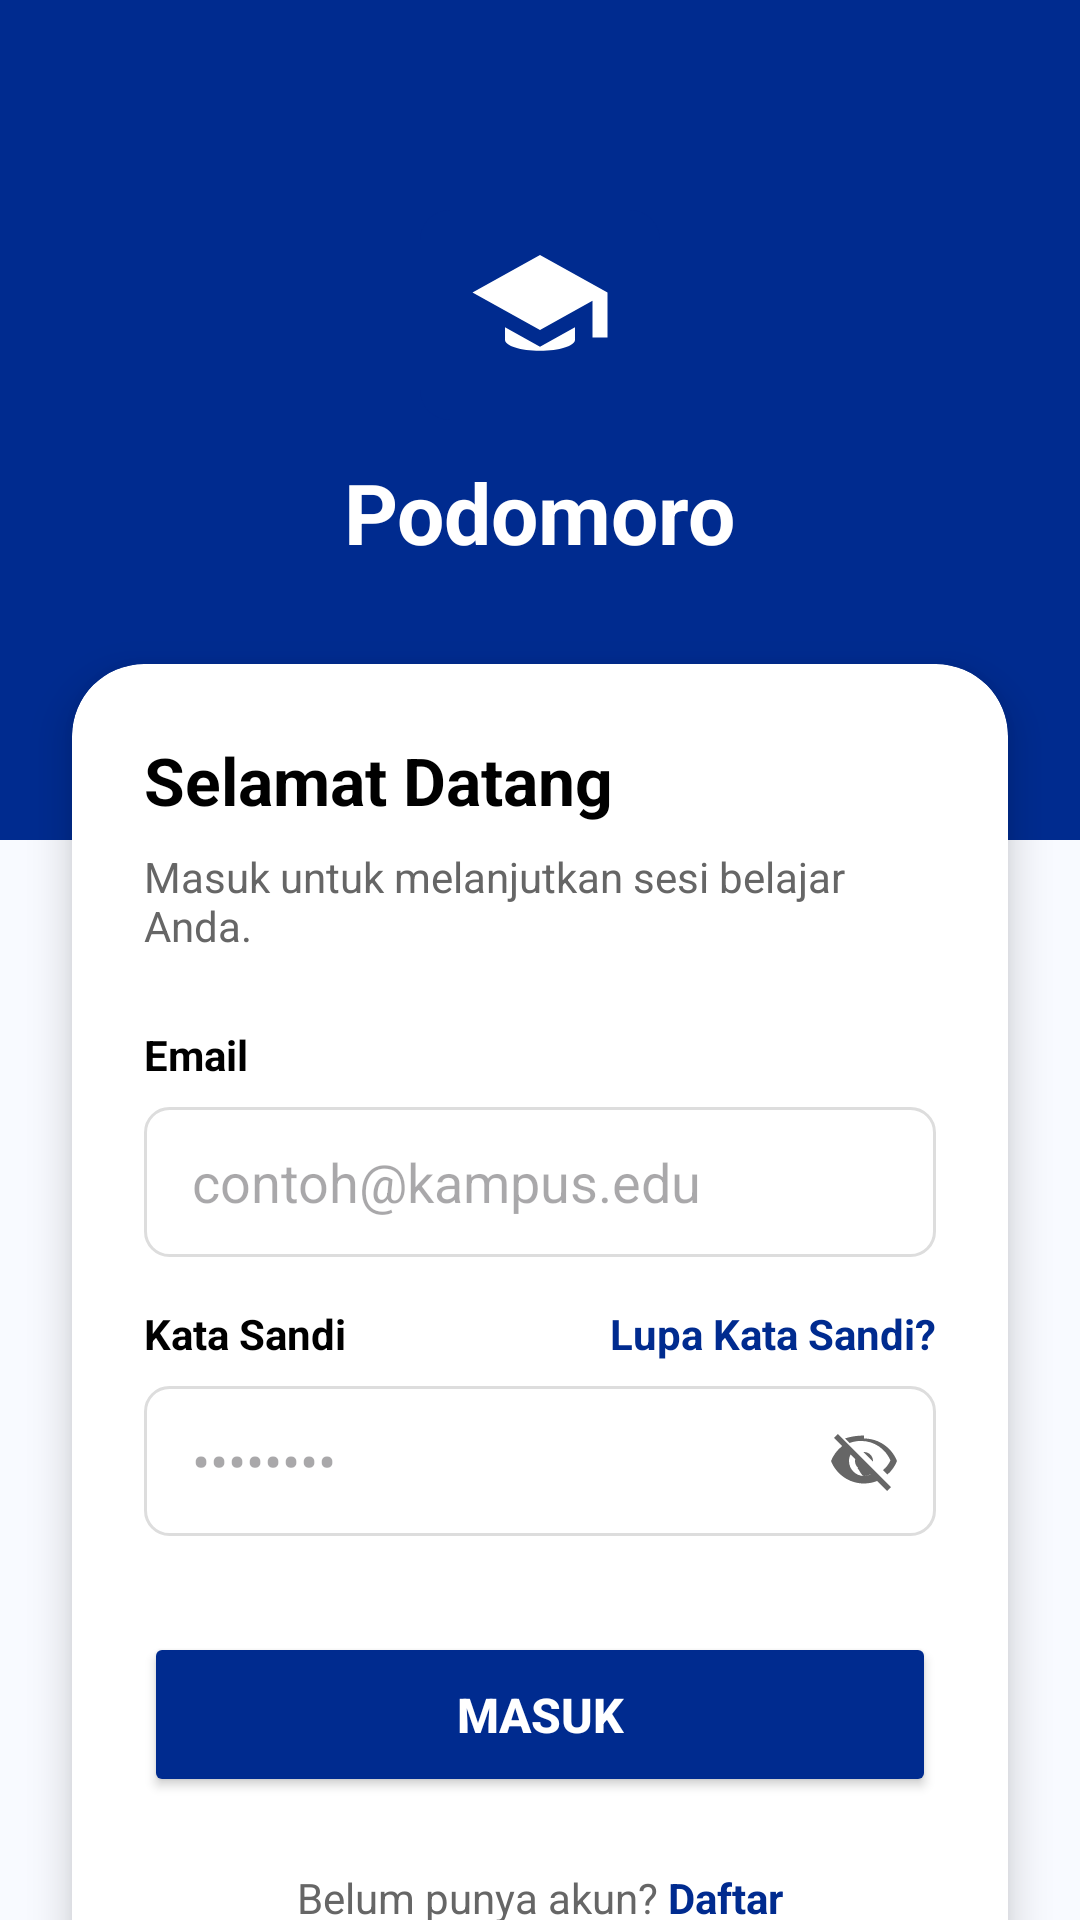

Named icons in this screenshot (1080px×1920px) and their centers, point (x, y):
Tampilkan Kata Sandi: point (864, 1462)
